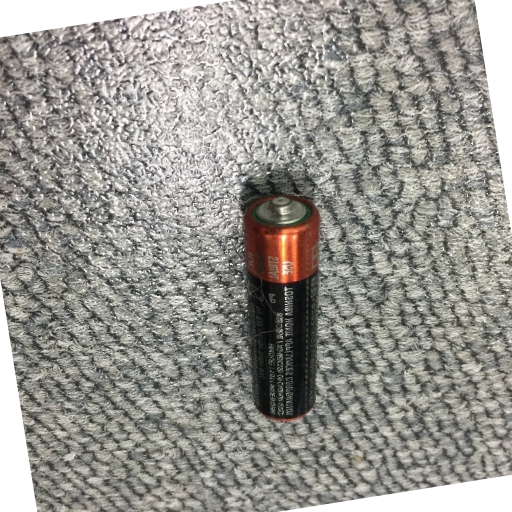Battery_0: (235, 180, 342, 445)
